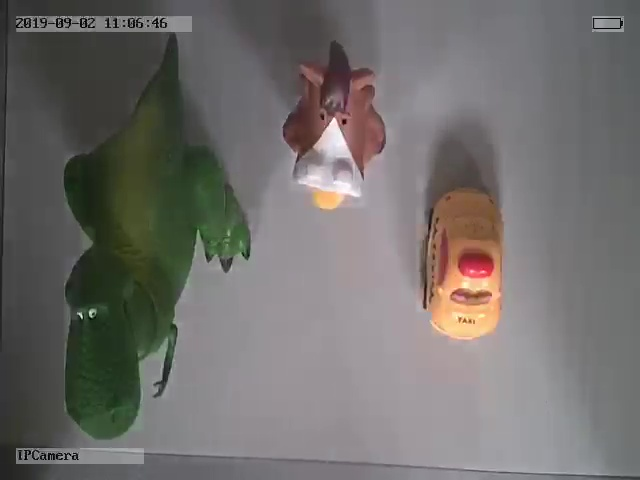car: (419, 185, 504, 343)
horse: (280, 41, 387, 210)
rex: (62, 56, 251, 439)
